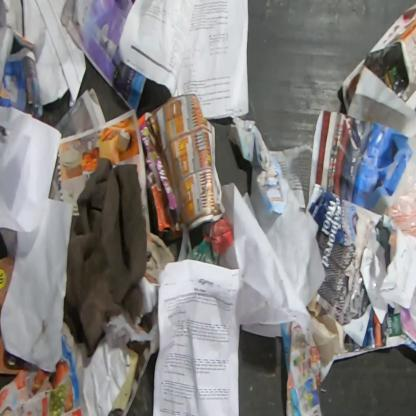cardboard: (227, 115, 288, 217), (136, 110, 181, 242), (192, 219, 234, 263), (0, 328, 23, 374), (0, 254, 16, 315)
soft_plastic: (389, 133, 415, 233)
